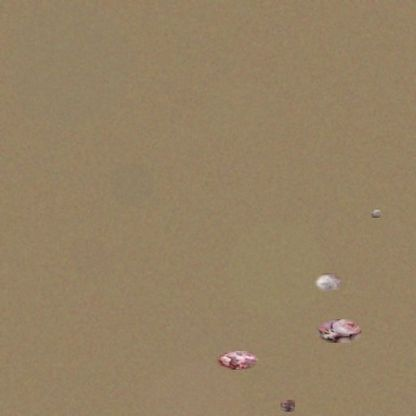damaged: (314, 273, 342, 292)
rotten: (217, 351, 258, 370), (280, 400, 295, 412), (370, 210, 380, 218)
sprouted: (316, 319, 362, 343)
